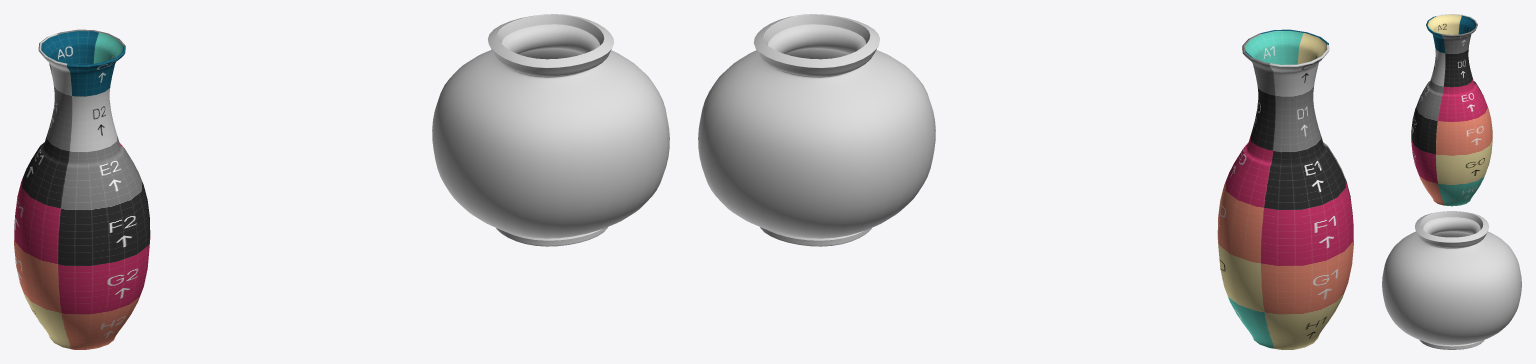
Rendered from Pot.fbx.
3 views of the same model, side by side, from view 1: azimuth 30°, elevation 25°; view 2: azimuth 150°, elevation 25°; view 3: azimuth 270°, elevation 25° (orthographic). The views are drawn at different scales.
Parts seen in each view (by area): view 1: Pot_high, H_Vase; view 2: Pot_high, H_Vase; view 3: Pot_high, H_Vase.
Part boxes in pixels (bbox=[...]): Pot_high: bbox=[432, 14, 669, 246]; H_Vase: bbox=[14, 29, 150, 349]; Pot_high: bbox=[698, 14, 935, 246]; H_Vase: bbox=[1217, 29, 1353, 349]; Pot_high: bbox=[1382, 211, 1521, 349]; H_Vase: bbox=[1411, 14, 1492, 206].
Size of the model in its own units: 134 by 43.02 by 58.99.
